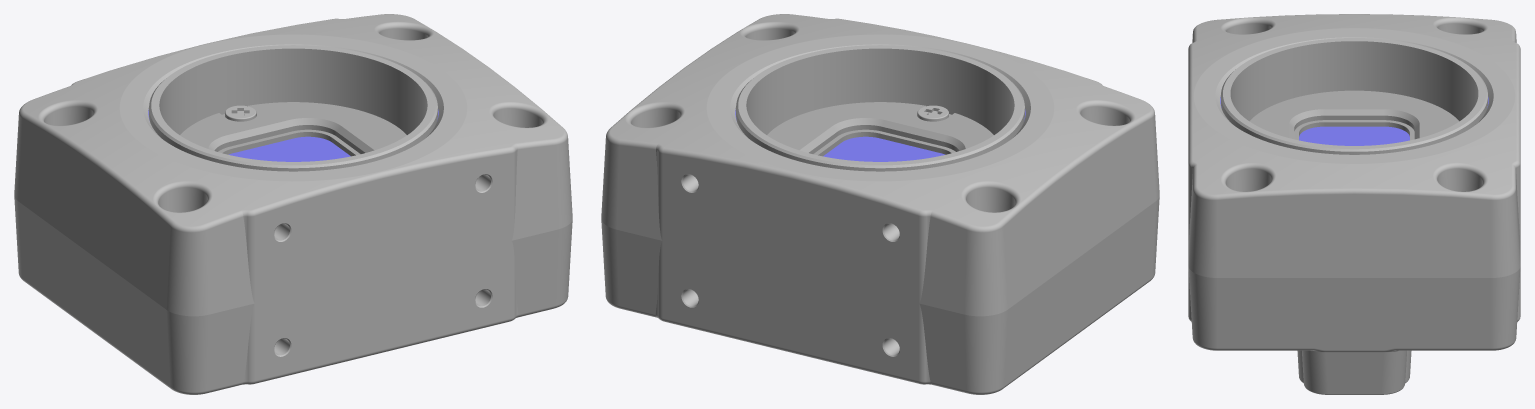
Rendered from FFMV USB.FBX.
3 views of the same model, side by side, from view 1: azimuth 30°, elevation 25°; view 2: azimuth 150°, elevation 25°; view 3: azimuth 270°, elevation 25° (orthographic). The views are drawn at different scales.
Visible parts, largest first — view 1: NONE; view 2: NONE; view 3: NONE.
Boxes of the visible parts, bbox=[...] form: NONE: bbox=[14, 14, 572, 394]; NONE: bbox=[601, 14, 1159, 394]; NONE: bbox=[1188, 14, 1520, 394].
Size of the model in its own units: 1.73 by 0.9598 by 1.34.
